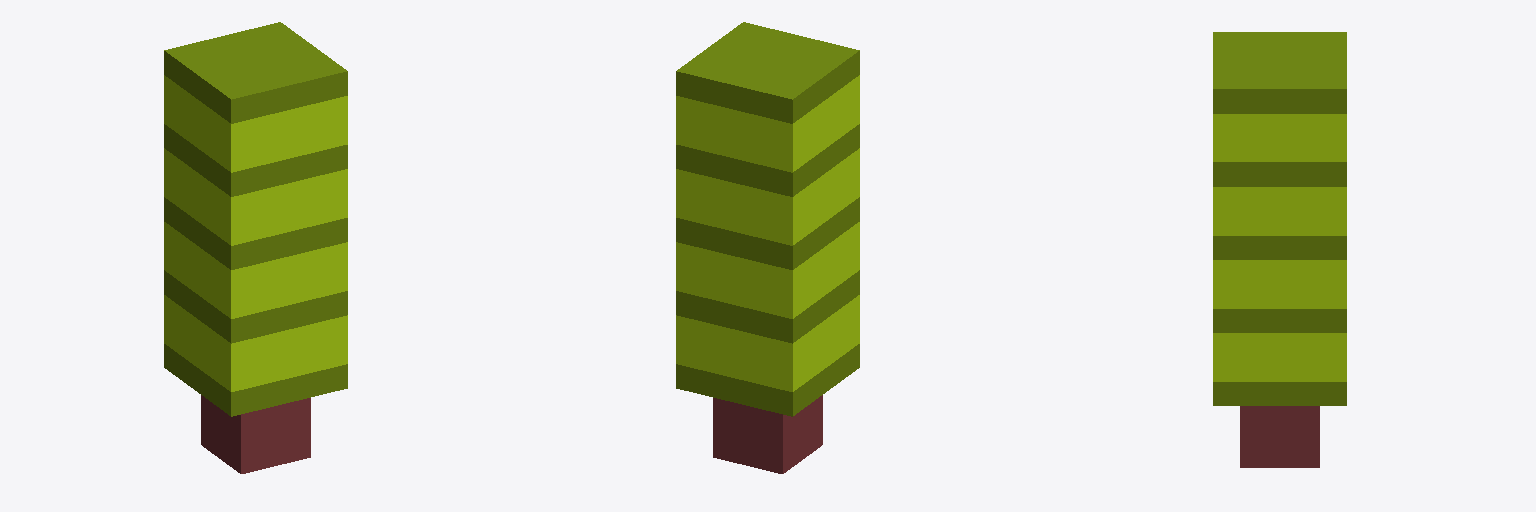
The picture shows the model from 3 angles: view 1: azimuth 30°, elevation 25°; view 2: azimuth 150°, elevation 25°; view 3: azimuth 270°, elevation 25°; orthographic projection.
Parts seen in each view (by area): view 1: 4BlockTree; view 2: 4BlockTree; view 3: 4BlockTree.
Part boxes in pixels (left/top/right/bottom): 4BlockTree: left=164, top=22, right=347, bottom=473; 4BlockTree: left=676, top=22, right=859, bottom=473; 4BlockTree: left=1213, top=32, right=1346, bottom=467.
Size of the model in its own units: 5 by 16 by 5.
Materials: 1 (1 with a texture image).